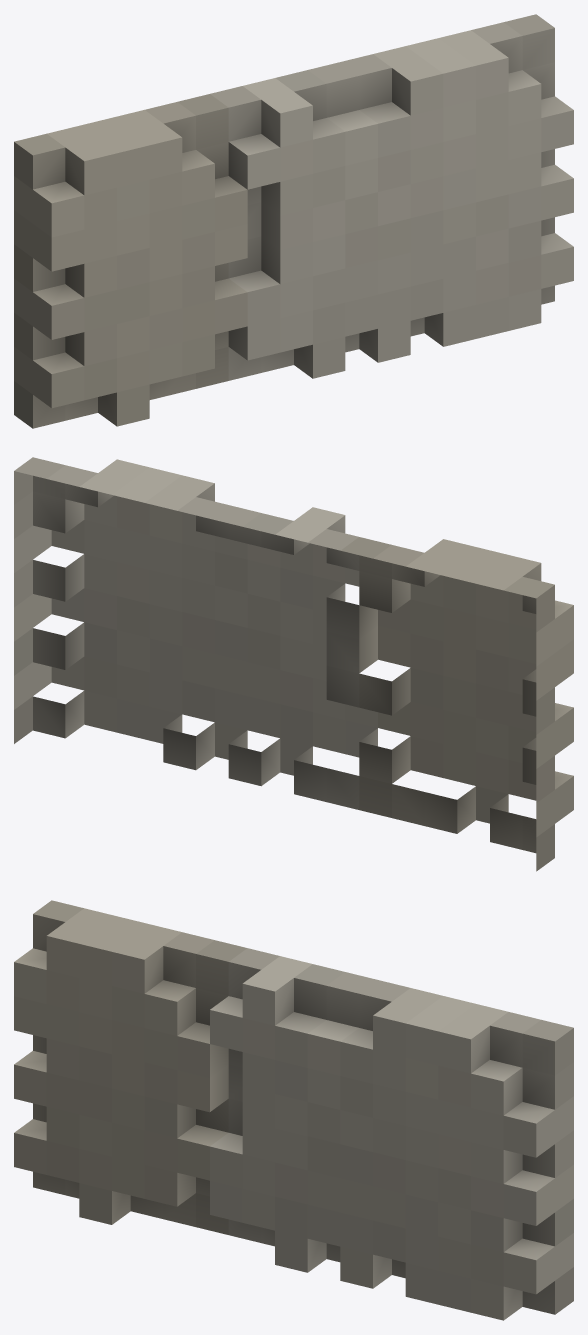
File: ashlar_plain_3.glb
3 renders of one model, top to bottom at view 1: azimuth 30°, elevation 25°; view 2: azimuth 150°, elevation 25°; view 3: azimuth 330°, elevation 25°, orthographic.
Visible parts, largest first — view 1: ashlar_plain_3; view 2: ashlar_plain_3; view 3: ashlar_plain_3.
Part boxes in pixels (bbox=[...]): ashlar_plain_3: bbox=[14, 14, 573, 428]; ashlar_plain_3: bbox=[14, 457, 573, 871]; ashlar_plain_3: bbox=[14, 900, 573, 1320].
Bounding box in the file's own units: 1 × 0.5 × 0.125.
